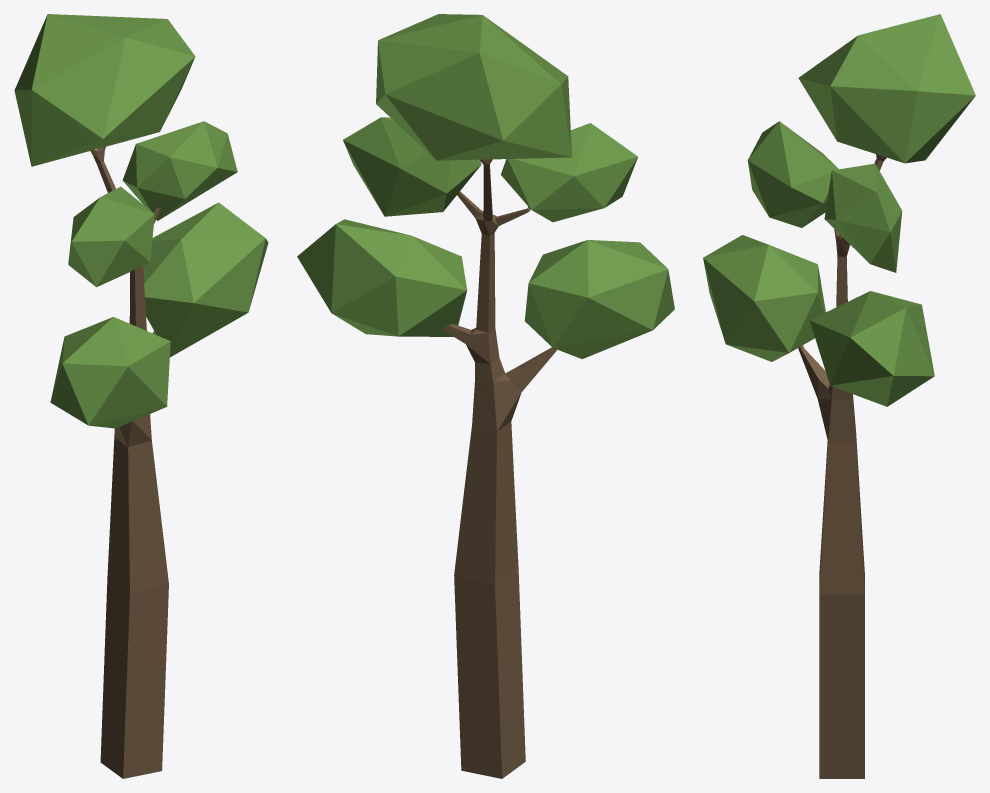
The model's file is tree_generic_04.fbx.
3 renders of one model, left to right at view 1: azimuth 30°, elevation 25°; view 2: azimuth 150°, elevation 25°; view 3: azimuth 270°, elevation 25°, orthographic. The views are drawn at different scales.
Visible parts, largest first — view 1: tree; view 2: tree; view 3: tree.
Part boxes in pixels (left/top/right/bottom): tree: left=14, top=14, right=268, bottom=778; tree: left=297, top=14, right=674, bottom=778; tree: left=703, top=14, right=975, bottom=778.
Bounding box in the file's own units: 0.2275 × 0.5632 × 0.1888.
